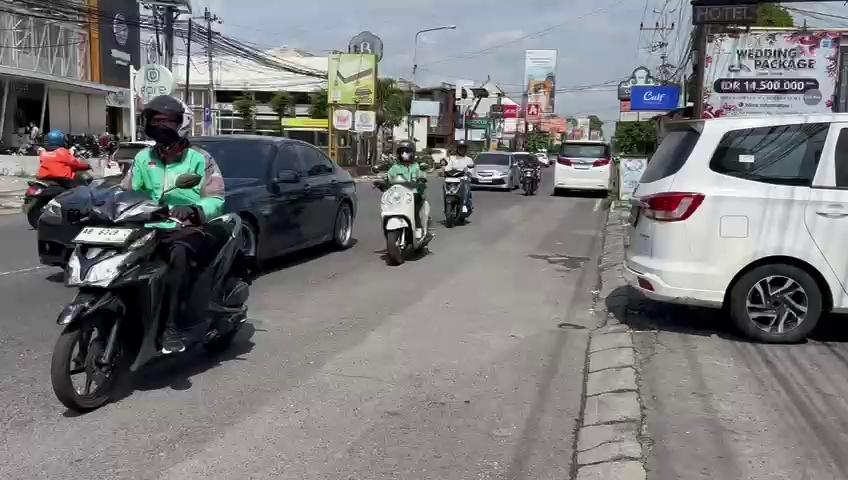helm: (140, 94, 193, 146), (396, 141, 416, 163), (455, 139, 470, 157)
riding: (48, 93, 254, 414), (370, 139, 434, 265), (437, 139, 477, 229)
